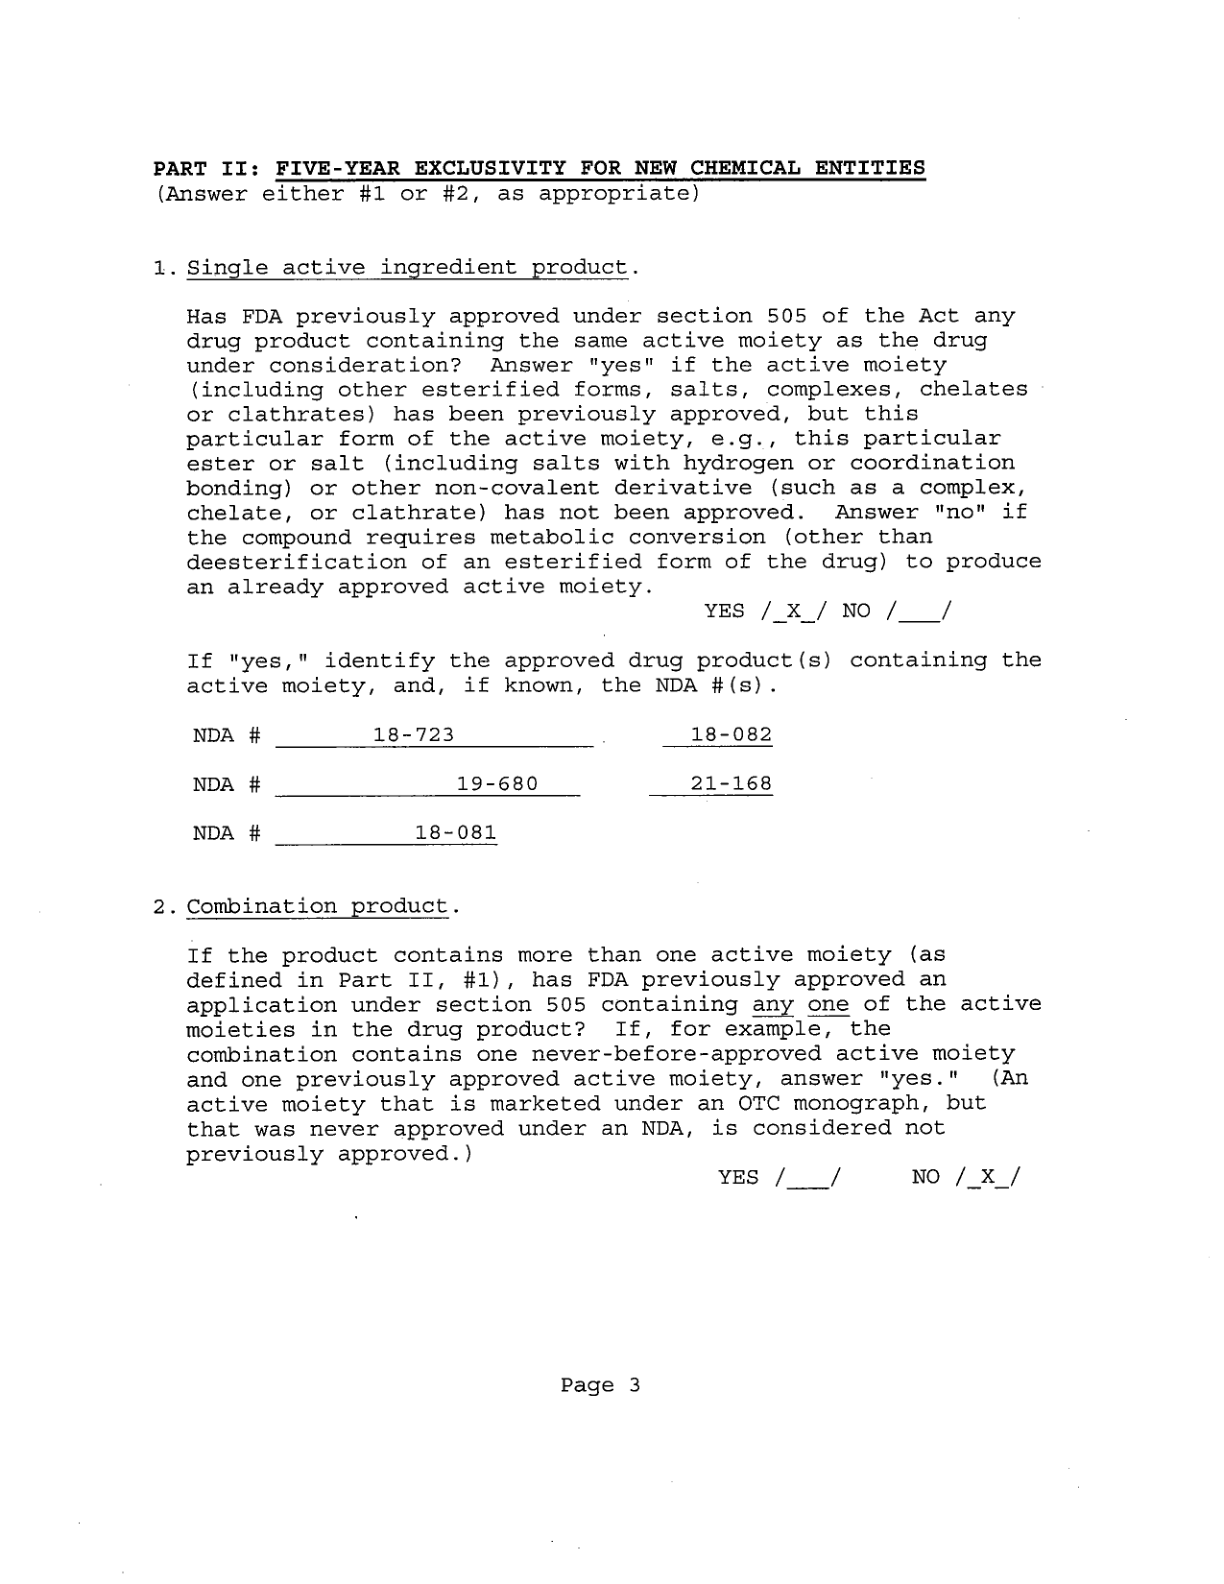nolines: (190, 719, 777, 852)
